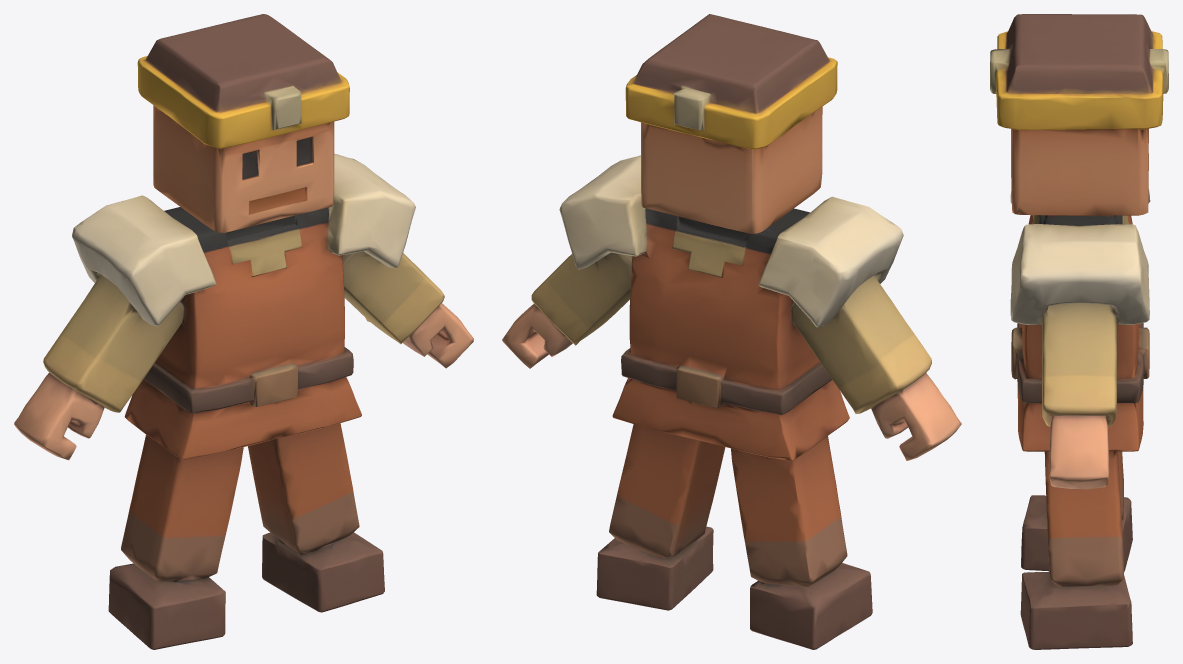
File: heroe-apose-rig.glb
The picture shows the model from 3 angles, left to right: view 1: azimuth 30°, elevation 25°; view 2: azimuth 150°, elevation 25°; view 3: azimuth 270°, elevation 25°; orthographic projection.
Visible parts, largest first — view 1: tripo_node_121a5e51-3493-48fa-93c7-8b3d1519163f; view 2: tripo_node_121a5e51-3493-48fa-93c7-8b3d1519163f; view 3: tripo_node_121a5e51-3493-48fa-93c7-8b3d1519163f.
Boxes of the visible parts, x1=… form: tripo_node_121a5e51-3493-48fa-93c7-8b3d1519163f: x1=14, y1=14, x2=473, y2=649; tripo_node_121a5e51-3493-48fa-93c7-8b3d1519163f: x1=502, y1=14, x2=961, y2=649; tripo_node_121a5e51-3493-48fa-93c7-8b3d1519163f: x1=990, y1=14, x2=1168, y2=649.
Bounding box in the file's own units: 0.8146 × 1 × 0.292.
1 material, 1 textured.
